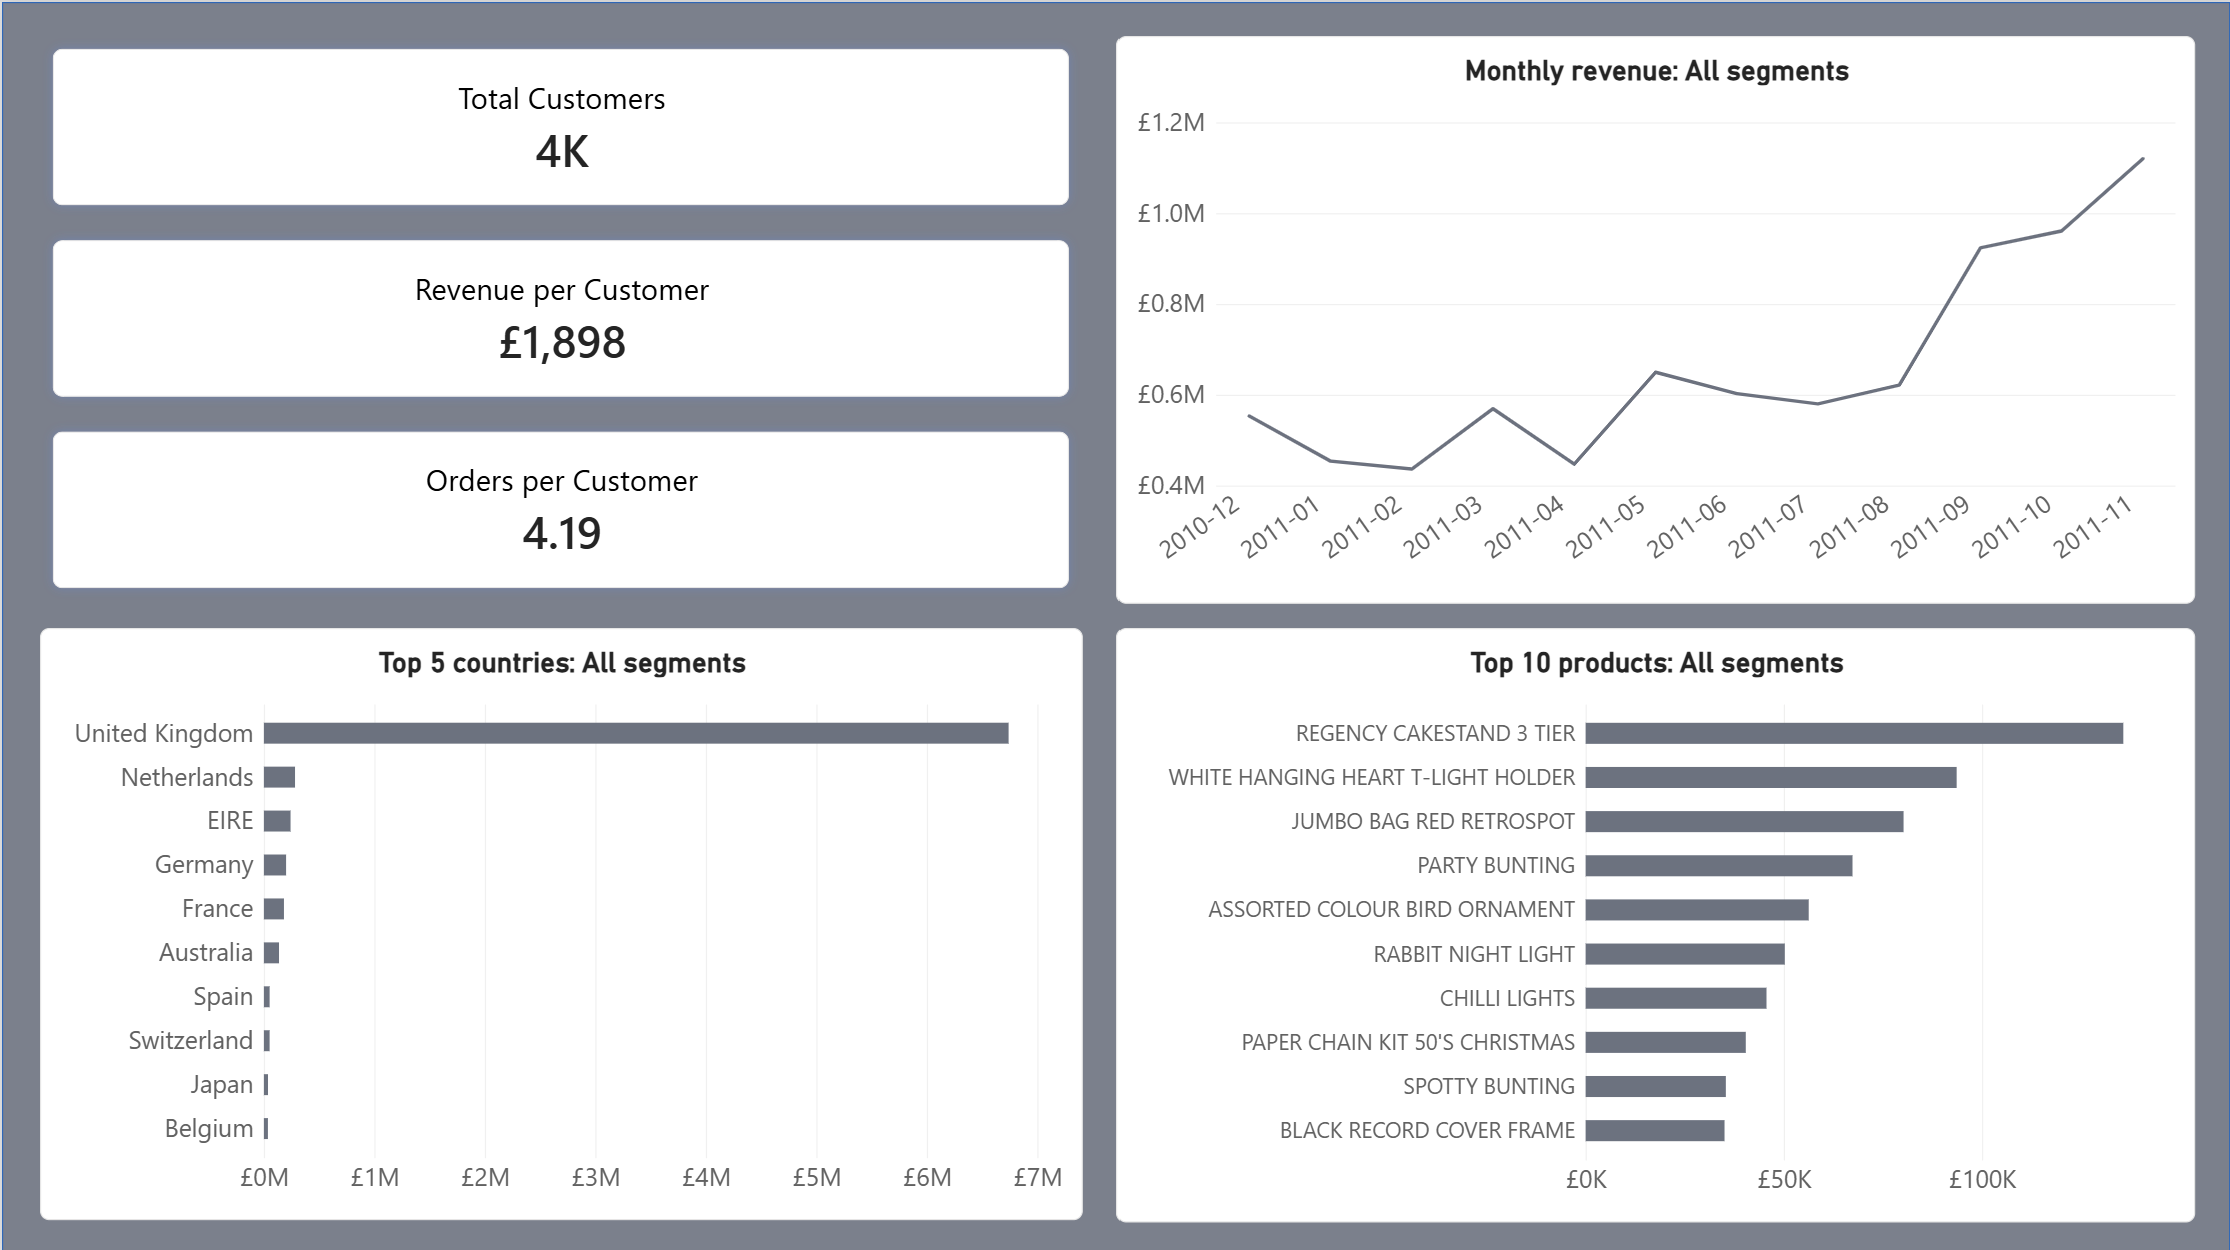

This screenshot's page, from the dashboard's own definition file:
{"tool":"powerbi","page":{"name":"Segment Deep-Dive","canvas":[1920,1080],"ordinal":3},"visuals":[{"type":"shape","box":[0,0,1920,1080.5],"z":500},{"type":"cardVisual","fields":{"Data":["Measure.Total Customers","Measure.Revenue per Customer","Measure.Orders per Customer"]},"box":[32.5,28.7,898.8,489.6],"z":1000},{"type":"clusteredBarChart","fields":{"Category":["fact_sales.Description"],"Y":["Measure.Total Revenue"]},"box":[960,539.3,929.4,512.5],"z":2000},{"type":"clusteredBarChart","fields":{"Category":["fact_sales.Country"],"Y":["Measure.Total Revenue"]},"box":[32.5,539.3,898.8,510.6],"z":3000},{"type":"lineChart","fields":{"Category":["dim_date.Month"],"Y":["Measure.Total Revenue"]},"box":[960,28.7,929.4,489.6],"z":4000}]}

Visuals, with their boxes in screenshot pixels (x1, y1, x2, y2), scaled from the page's 1920x1080 canvas onto the 2230x1250 screenshot:
shape: crop(0, 0, 2229, 1249)
cardVisual - Measure.Total Customers x Measure.Revenue per Customer: crop(38, 33, 1082, 600)
clusteredBarChart - fact_sales.Description x Measure.Total Revenue: crop(1115, 624, 2194, 1217)
clusteredBarChart - fact_sales.Country x Measure.Total Revenue: crop(38, 624, 1082, 1215)
lineChart - dim_date.Month x Measure.Total Revenue: crop(1115, 33, 2194, 600)
